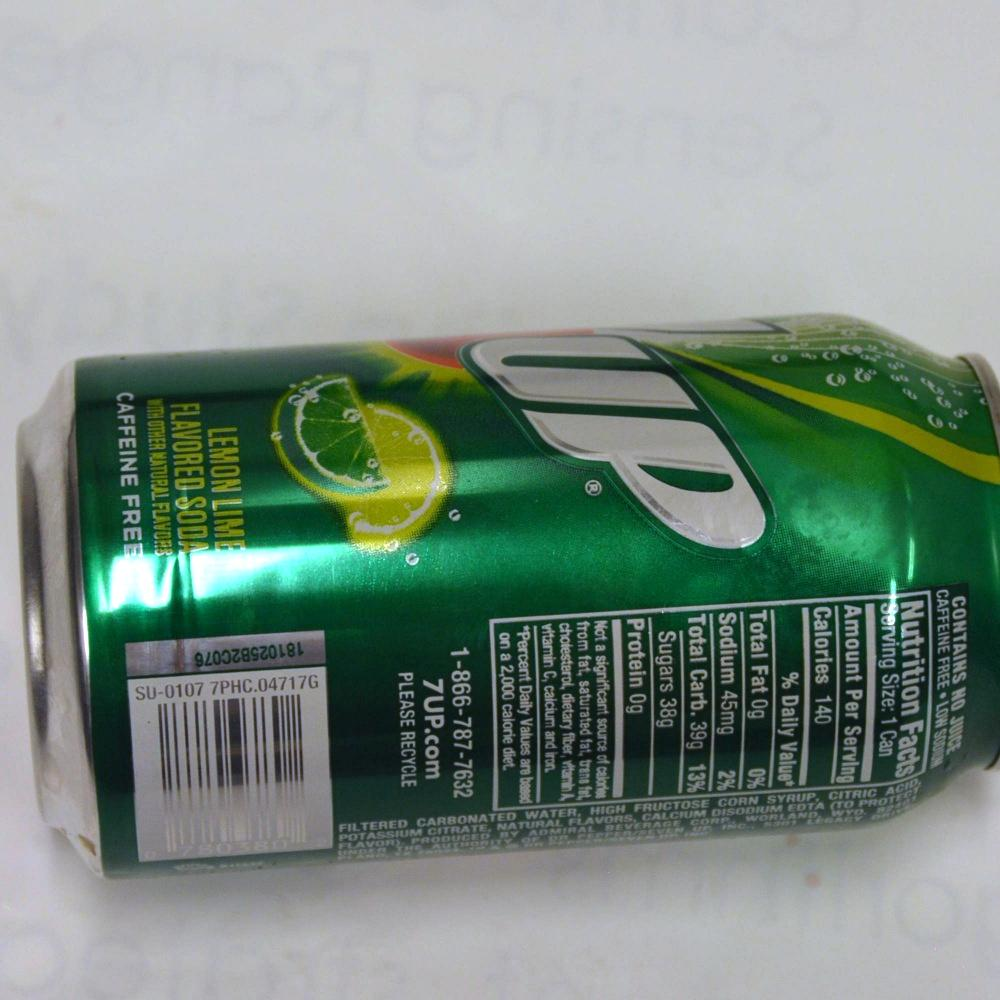Metal: (28, 285, 963, 872)
